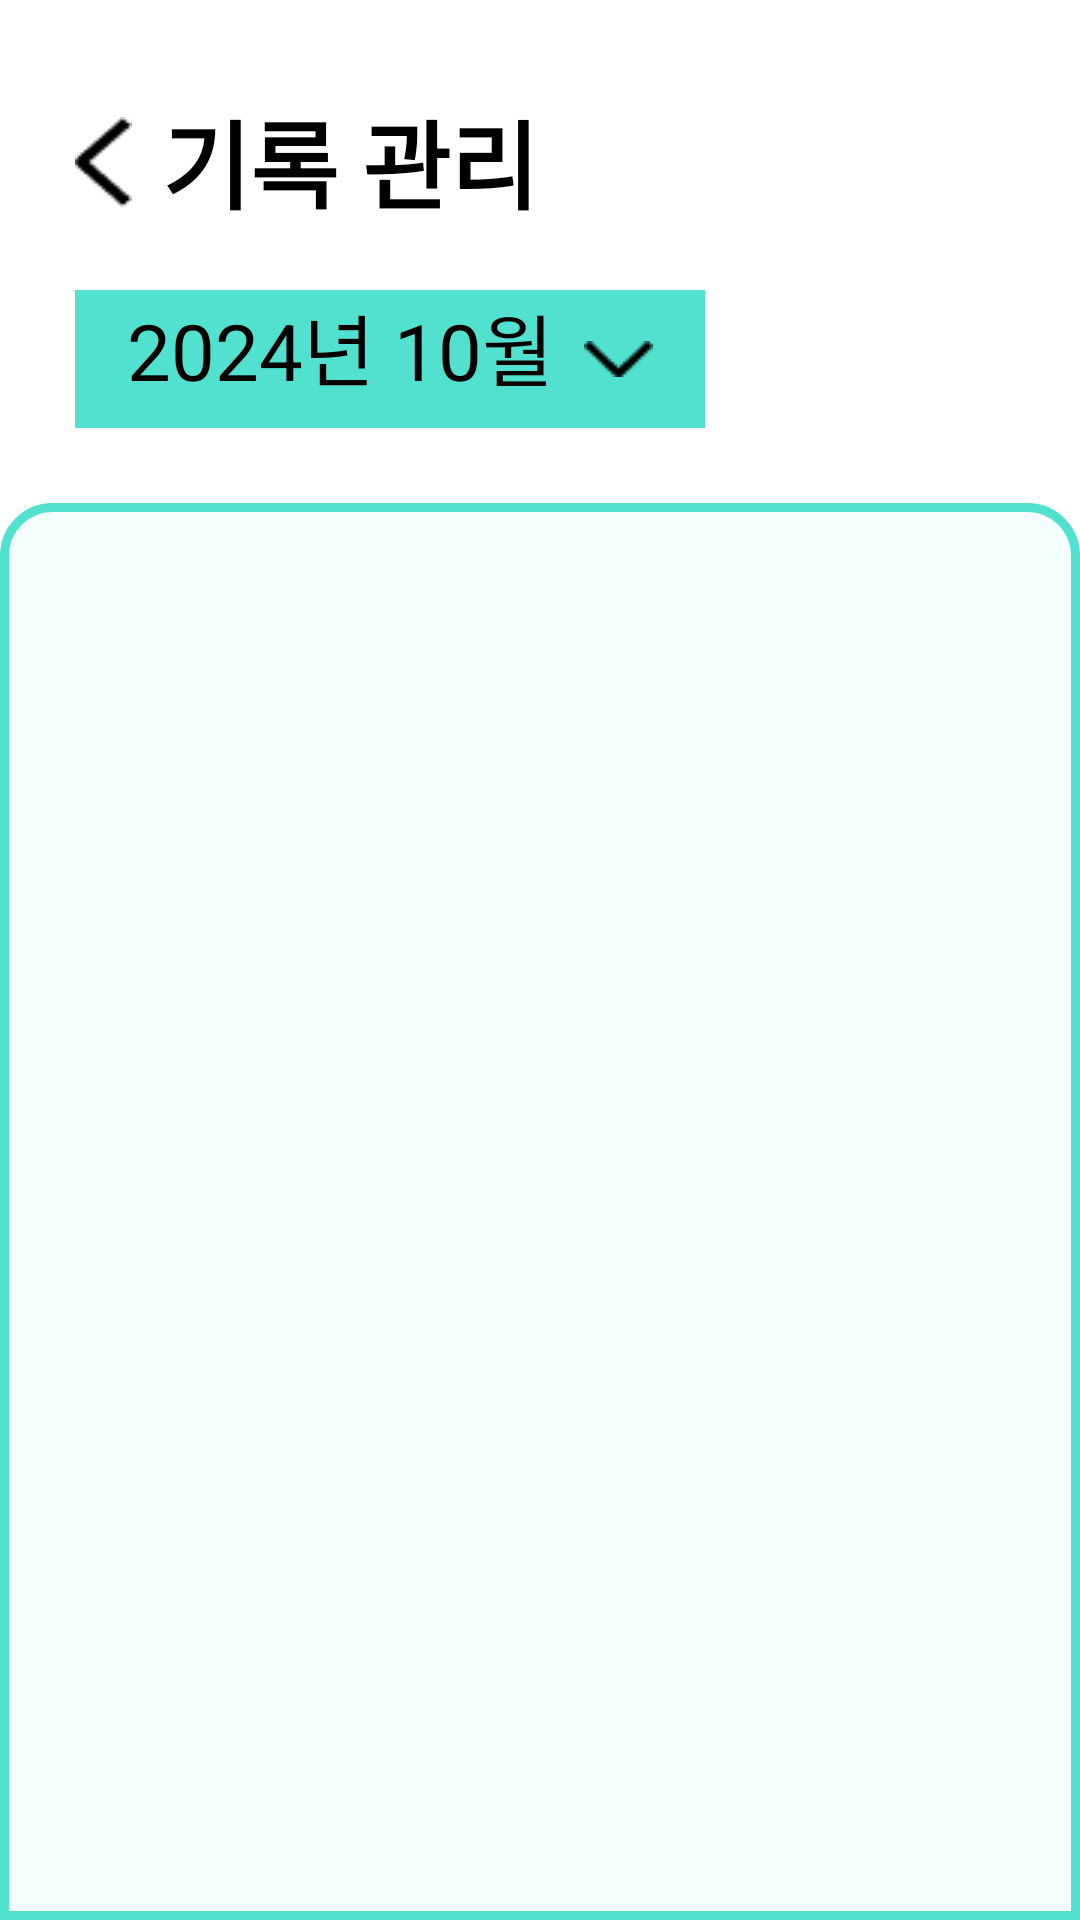

Locate icon controls on the screen. Image size 1080px×1920px, boxes as (x1, y1, x2, y2).
arrow down: (584, 341, 653, 377)
